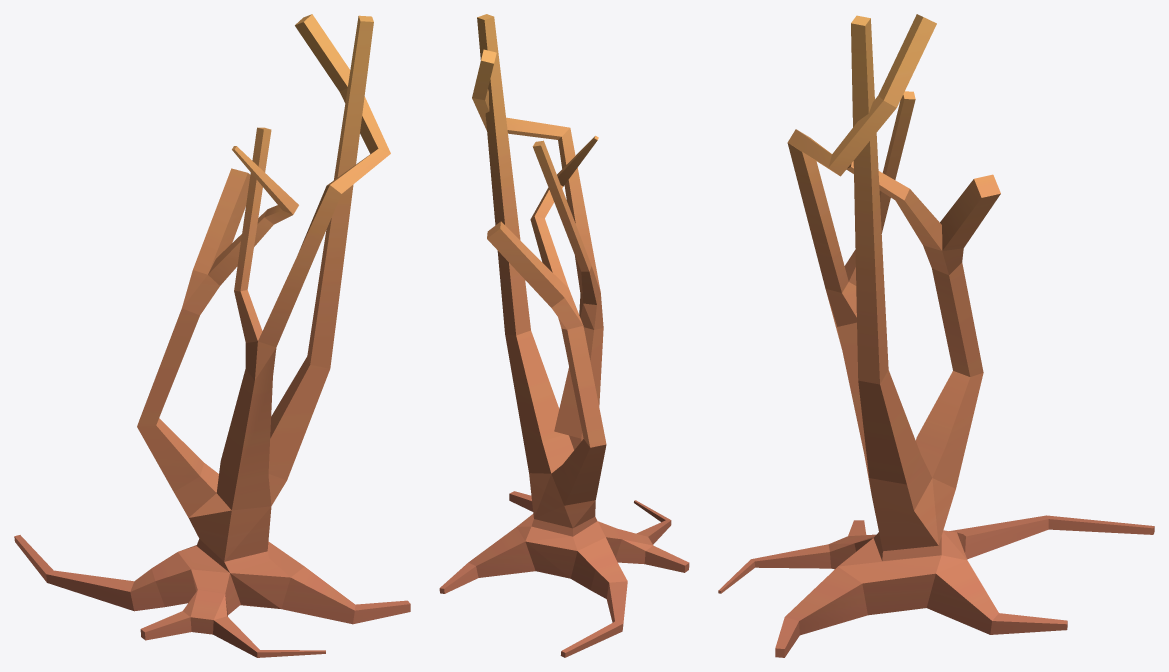
File: Sapling_1.fbx
3 views of the same model, side by side, from view 1: azimuth 30°, elevation 25°; view 2: azimuth 150°, elevation 25°; view 3: azimuth 270°, elevation 25° (orthographic). The views are drawn at different scales.
Visible parts, largest first — view 1: Sapling_1; view 2: Sapling_1; view 3: Sapling_1.
Boxes of the visible parts, bbox=[...] form: Sapling_1: bbox=[14, 14, 410, 657]; Sapling_1: bbox=[439, 14, 689, 657]; Sapling_1: bbox=[718, 14, 1154, 657].
Size of the model in its own units: 0.7595 by 1.68 by 1.04.
